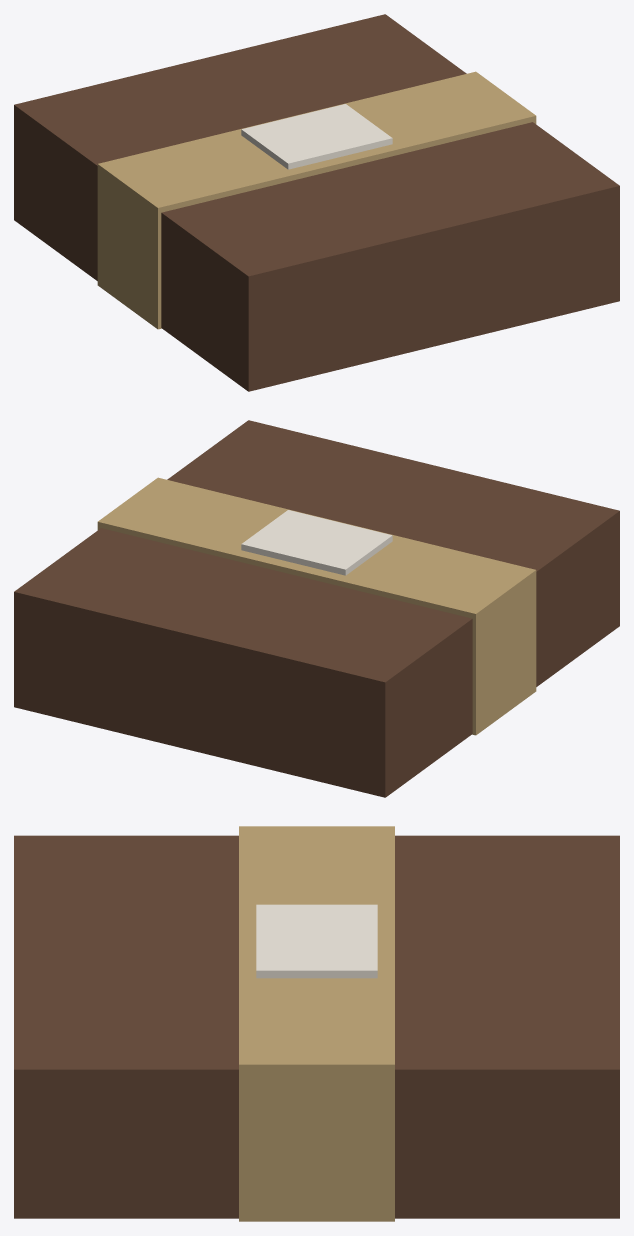
File: SV_MP_SKU_03_v01.glb
The picture shows the model from 3 angles, top to bottom: view 1: azimuth 30°, elevation 25°; view 2: azimuth 150°, elevation 25°; view 3: azimuth 270°, elevation 25°; orthographic projection. The views are drawn at different scales.
Visible parts, largest first — view 1: mproto_SV_MP_SKU_03_v01; view 2: mproto_SV_MP_SKU_03_v01; view 3: mproto_SV_MP_SKU_03_v01.
Part boxes in pixels (x1=…): mproto_SV_MP_SKU_03_v01: x1=14, y1=14, x2=619, y2=391; mproto_SV_MP_SKU_03_v01: x1=14, y1=420, x2=619, y2=797; mproto_SV_MP_SKU_03_v01: x1=14, y1=826, x2=619, y2=1221.
Bounding box in the file's own units: 0.0652 × 0.021 × 0.07.
